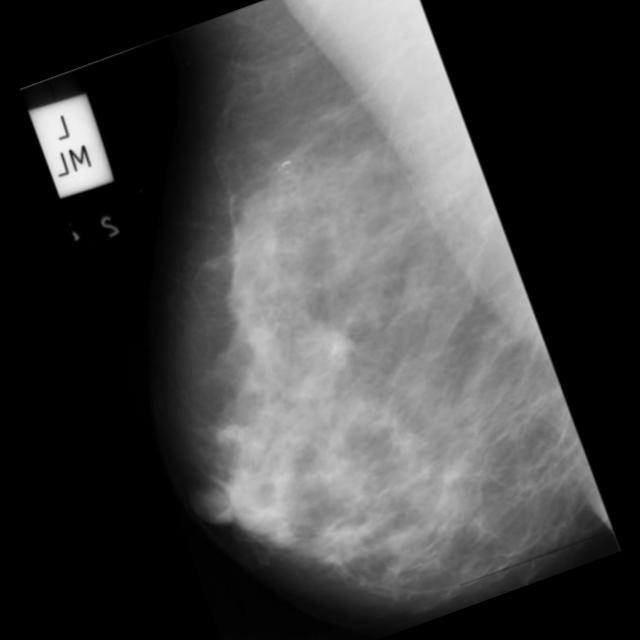CALC: (264, 146, 310, 193)
